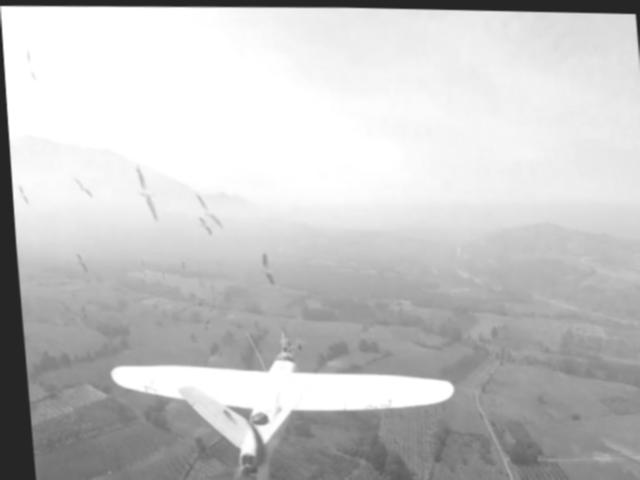hedef: (94, 315, 459, 480)
